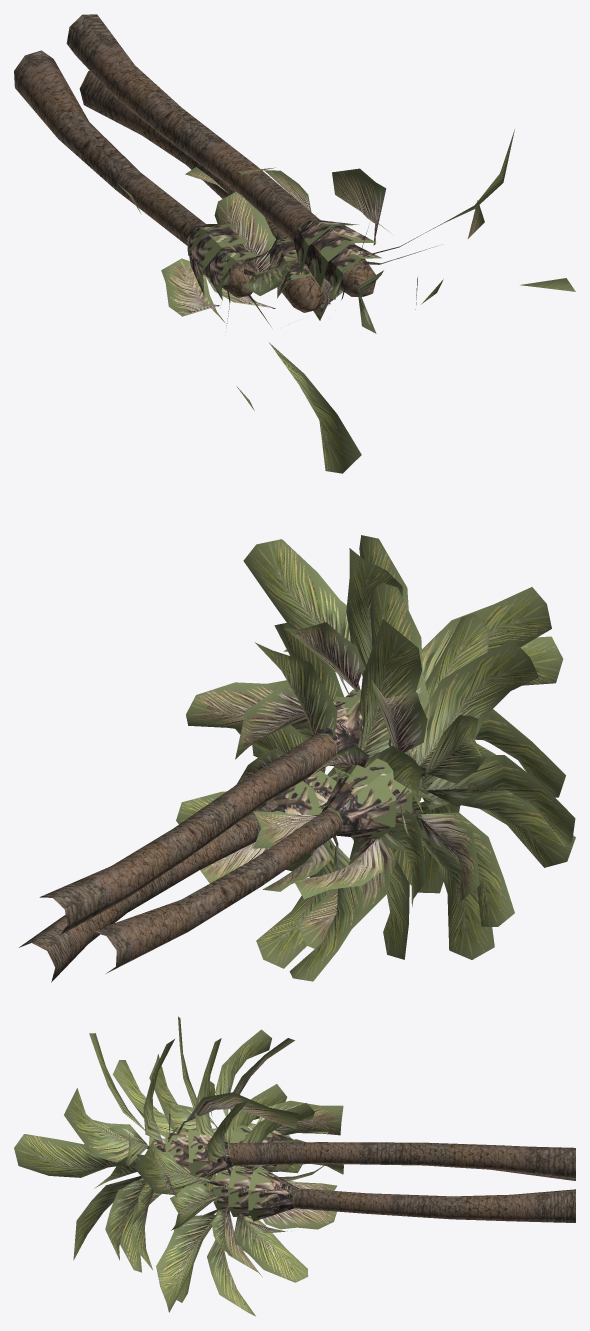
The model's file is tree_desertpalmgroup.glb.
The picture shows the model from 3 angles, top to bottom: view 1: azimuth 30°, elevation 25°; view 2: azimuth 150°, elevation 25°; view 3: azimuth 270°, elevation 25°; orthographic projection. The views are drawn at different scales.
Bounding box in the file's own units: 202 × 190 × 351.
Materials: 2 (2 with a texture image).
